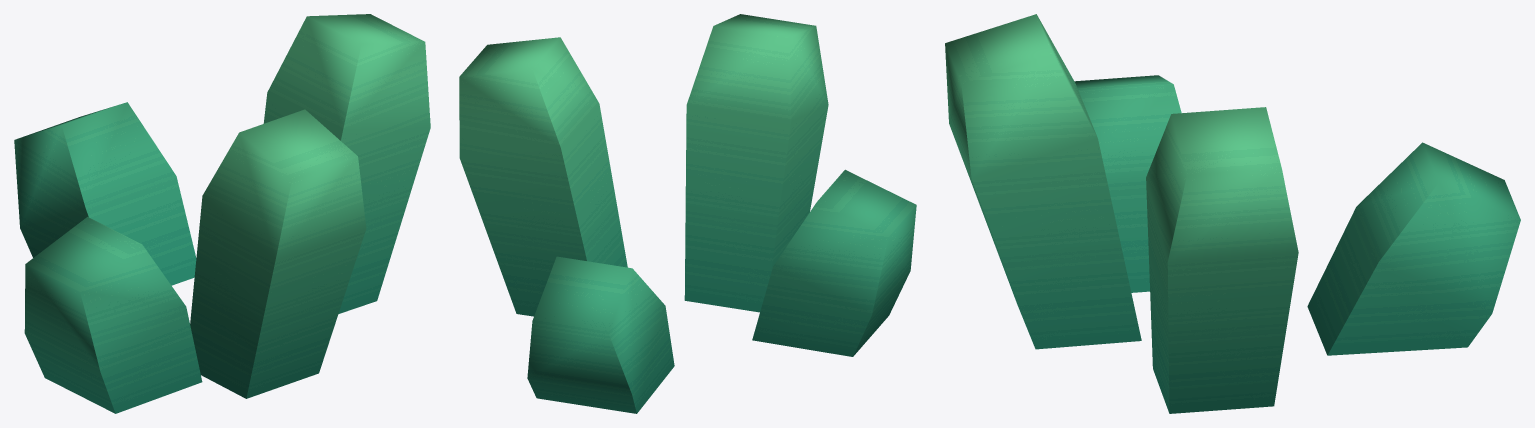
The model's file is grass.008_lev2.glb.
3 views of the same model, side by side, from view 1: azimuth 30°, elevation 25°; view 2: azimuth 150°, elevation 25°; view 3: azimuth 270°, elevation 25° (orthographic). The views are drawn at different scales.
Visible parts, largest first — view 1: grass.008_lev2; view 2: grass.008_lev2; view 3: grass.008_lev2.
Boxes of the visible parts, bbox=[...] form: grass.008_lev2: bbox=[14, 14, 430, 413]; grass.008_lev2: bbox=[459, 14, 916, 413]; grass.008_lev2: bbox=[945, 14, 1520, 413].
Size of the model in its own units: 0.5215 by 0.3139 by 0.5613.
Materials: 1 (1 with a texture image).
